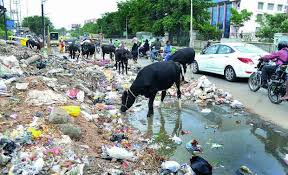garbage: (2, 58, 118, 175), (94, 119, 209, 175), (184, 81, 224, 103)
